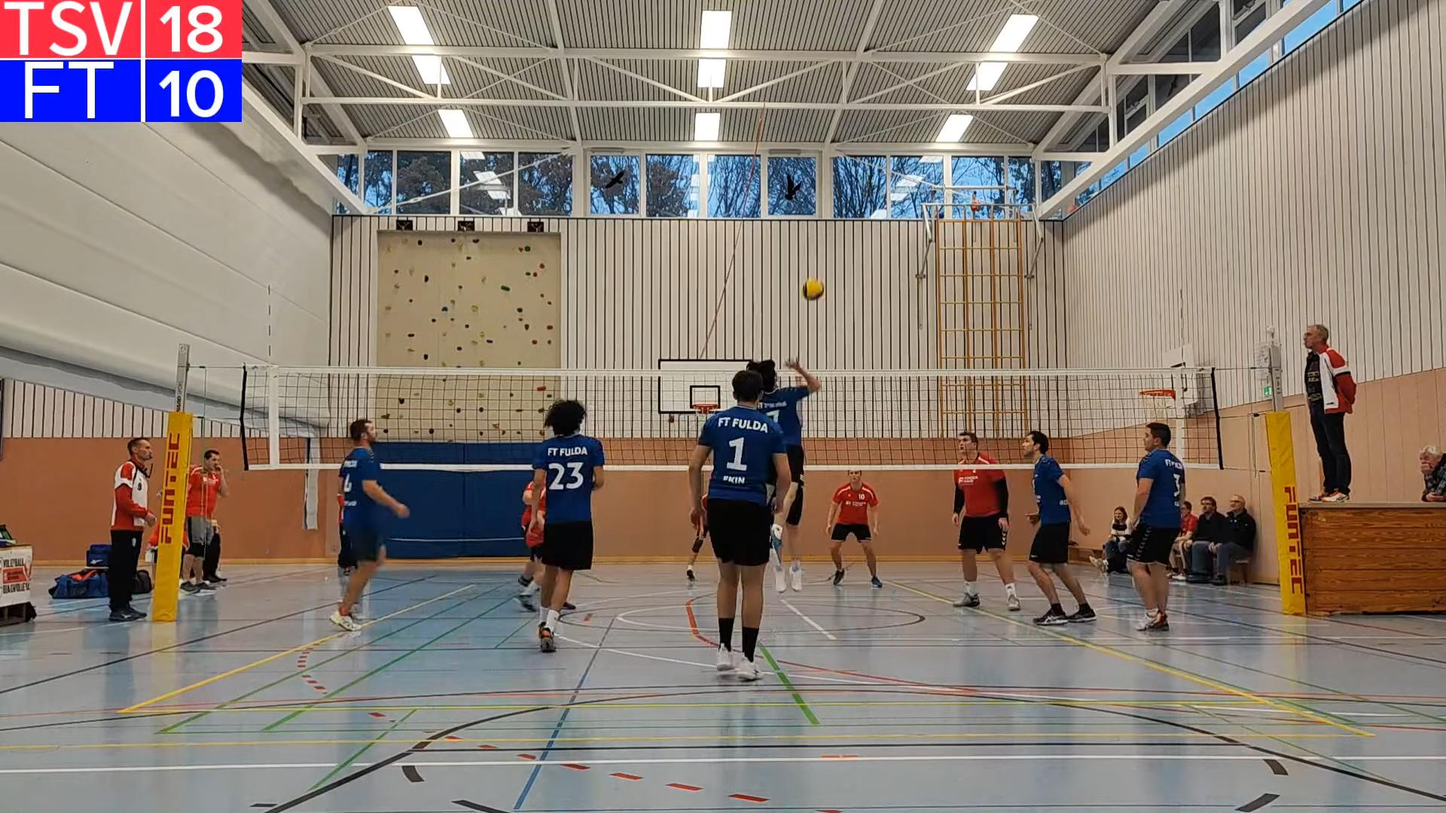Attack: (743, 351, 819, 584)
Player: (688, 369, 798, 680), (529, 400, 604, 651), (330, 419, 409, 630), (1022, 431, 1095, 625), (952, 431, 1020, 611), (1127, 422, 1184, 631), (826, 470, 882, 588), (517, 482, 542, 611), (517, 481, 541, 611), (686, 494, 708, 583)
ball: (800, 278, 828, 299)
